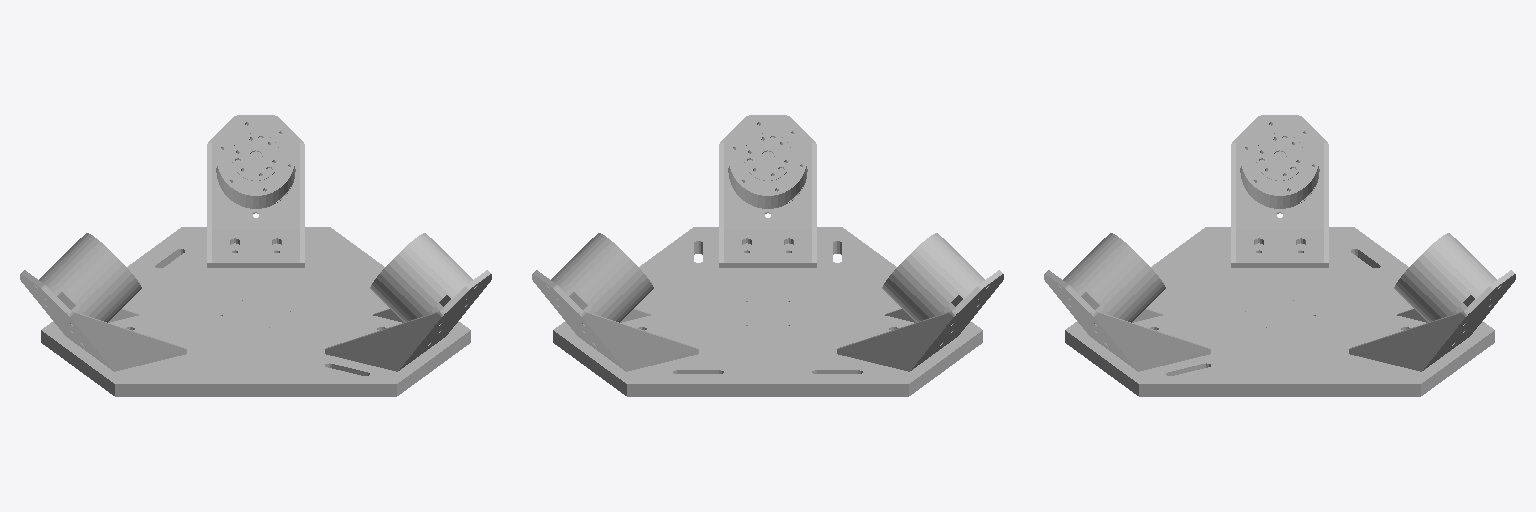
robot.urdf — complete_car:
<?xml version="1.0" encoding="utf-8"?>
<!-- This URDF was automatically created by SolidWorks to URDF Exporter! Originally created by [author] ([email redacted]) 
     Commit Version: 1.6.0-4-g7f85cfe  Build Version: 1.6.7995.38578
     For more information, please see http://wiki.ros.org/sw_urdf_exporter -->
<robot
  name="complete_car">
  <link
    name="base_link">
    <inertial>
      <origin
        xyz="0.00339845477754219 -0.00100052847056716 -0.552923955849089"
        rpy="0 0 0" />
      <mass
        value="37.7263609389327" />
      <inertia
        ixx="0.488851168223591"
        ixy="-0.000239092147682264"
        ixz="-1.52350970536662E-06"
        iyy="0.556712781881526"
        iyz="1.45828316099706E-05"
        izz="0.351999389465278" />
    </inertial>
    <visual>
      <origin
        xyz="0 0 0"
        rpy="0 0 0" />
      <geometry>
        <mesh
          filename="package://complete_car/meshes/base_link.STL" />
      </geometry>
      <material
        name="">
        <color
          rgba="0.752941176470588 0.752941176470588 0.752941176470588 1" />
      </material>
    </visual>
    <collision>
      <origin
        xyz="0 0 0"
        rpy="0 0 0" />
      <geometry>
        <mesh
          filename="package://complete_car/meshes/base_link.STL" />
      </geometry>
    </collision>
  </link>
</robot>

--- Render facts (derived) ---
The picture shows the robot from 3 angles, left to right: view 1: azimuth 30°, elevation 25°; view 2: azimuth 150°, elevation 25°; view 3: azimuth 270°, elevation 25°; orthographic projection.
Robot: complete_car — 1 links, 0 joints (none); root link base_link; default pose: all joints at 0.
Visible links, largest first — view 1: base_link; view 2: base_link; view 3: base_link.
Link boxes in pixels (box(x1,y1,x2,y2)): base_link: box(20, 115, 491, 396); base_link: box(532, 115, 1003, 396); base_link: box(1044, 115, 1515, 396).
Bounding box of the posed robot: 0.1535 × 0.1695 × 0.0512 m (x, y, z).
1 mesh visuals loaded from 1 distinct referenced files (1 binary STL).